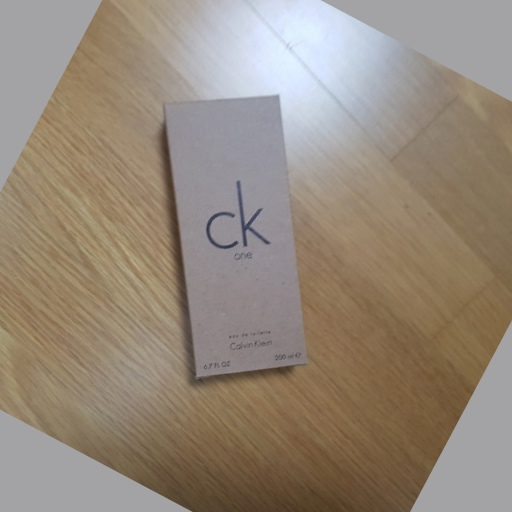Paper_0: (158, 89, 318, 380)
